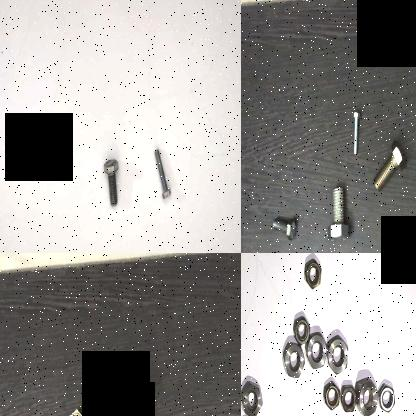Bolts: (371, 132, 408, 194), (326, 180, 350, 244), (100, 151, 122, 211), (150, 145, 172, 203), (130, 378, 155, 416), (272, 208, 298, 244), (346, 100, 361, 158), (391, 217, 412, 253), (65, 405, 86, 416)
NUTS: (278, 336, 306, 382), (354, 371, 382, 416), (326, 329, 350, 373), (304, 327, 328, 370), (241, 376, 265, 416), (300, 254, 324, 294), (320, 378, 342, 413), (377, 376, 397, 414), (338, 376, 358, 414), (290, 317, 310, 345)
